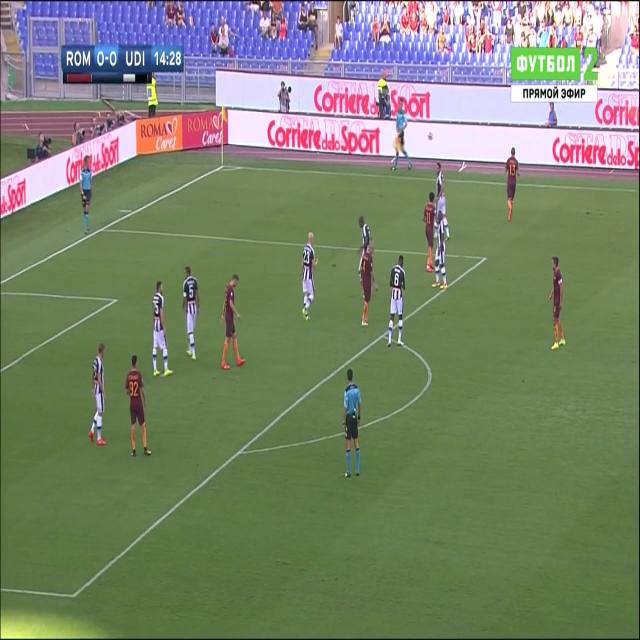Ball: (426, 128, 436, 144)
Player: (125, 351, 154, 460), (219, 272, 246, 374), (87, 339, 110, 451), (150, 278, 175, 379), (387, 253, 409, 351), (548, 252, 568, 355), (298, 231, 320, 322), (181, 264, 201, 362), (504, 146, 523, 222), (360, 235, 375, 328), (432, 207, 448, 293), (434, 162, 450, 244), (422, 191, 436, 274), (358, 211, 372, 276)
Referee: (341, 368, 364, 482), (391, 96, 416, 176), (80, 152, 95, 237)
